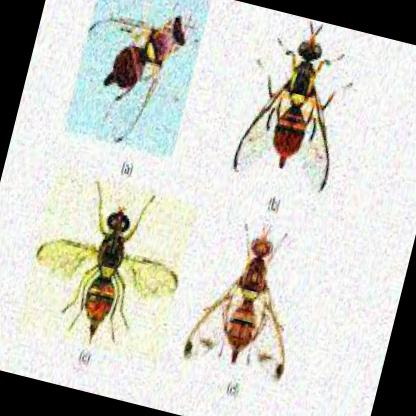fruit fly: (35, 209, 179, 348), (234, 24, 330, 192), (184, 233, 286, 375), (89, 16, 186, 142)
